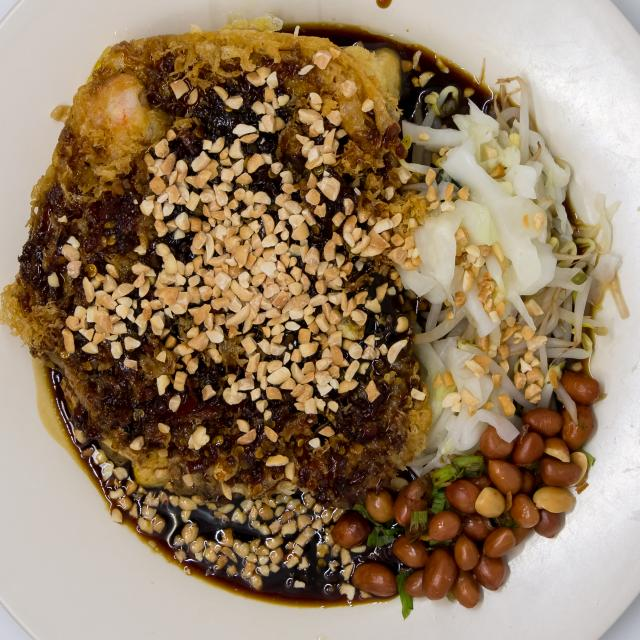Tahu-Telur: (30, 26, 608, 593)
